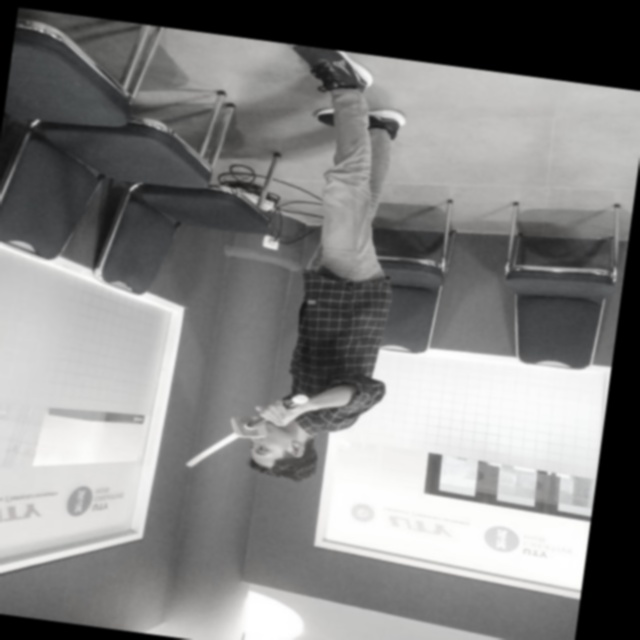Sharp-Object: (173, 363, 313, 484)
